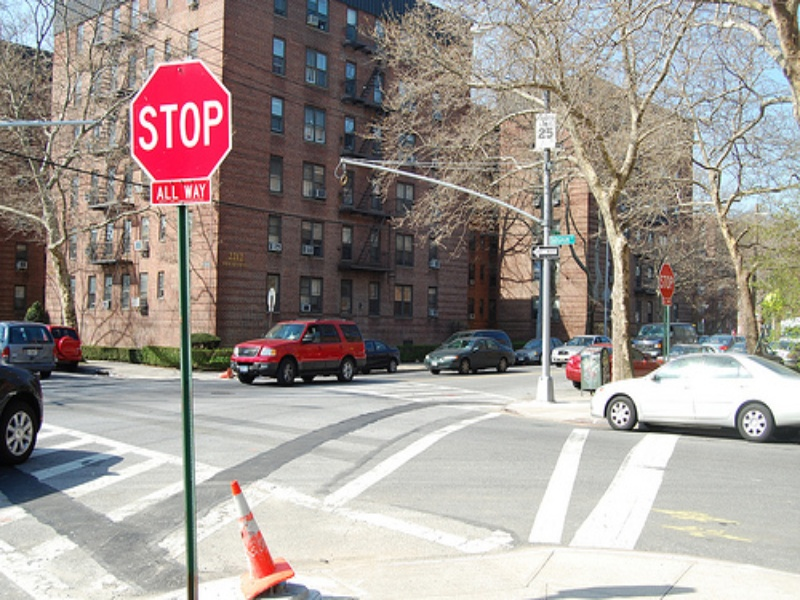stop sign: (122, 57, 236, 184)
